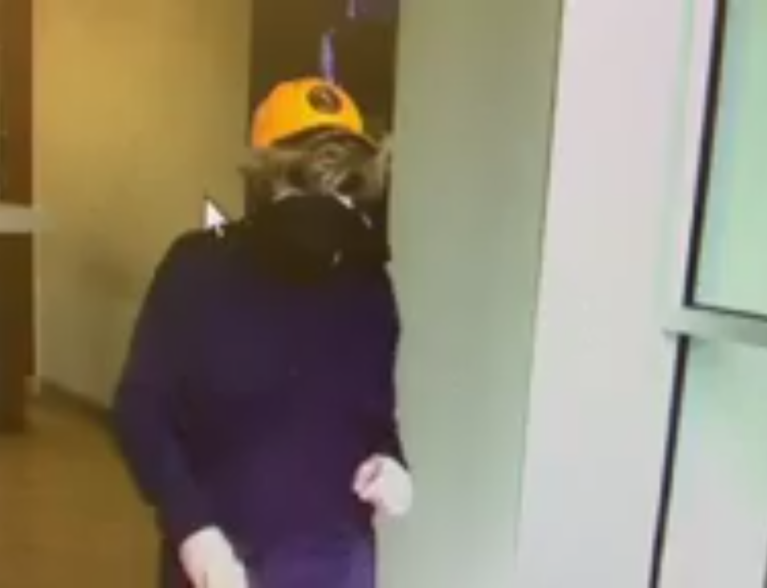helmet: (250, 67, 376, 141)
